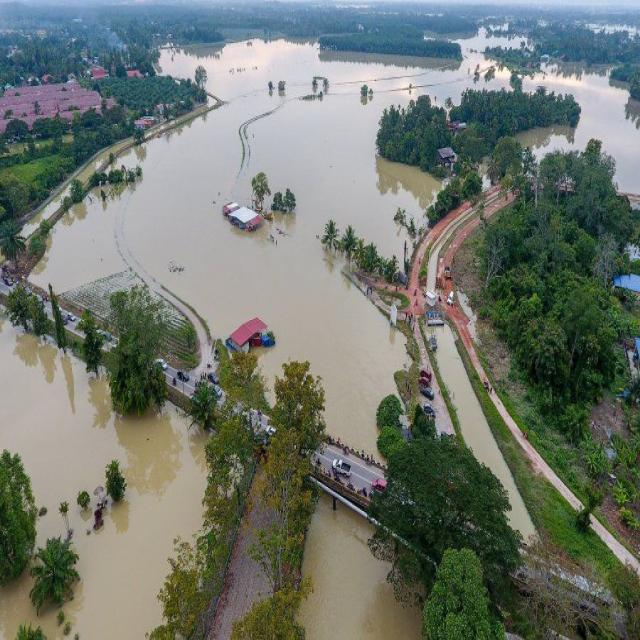flooded_areas: (4, 48, 566, 620)
